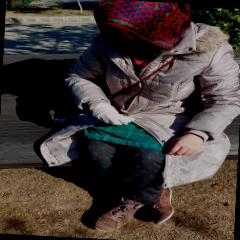gloved: (89, 104, 137, 127)
not-gloved: (169, 133, 205, 158)
